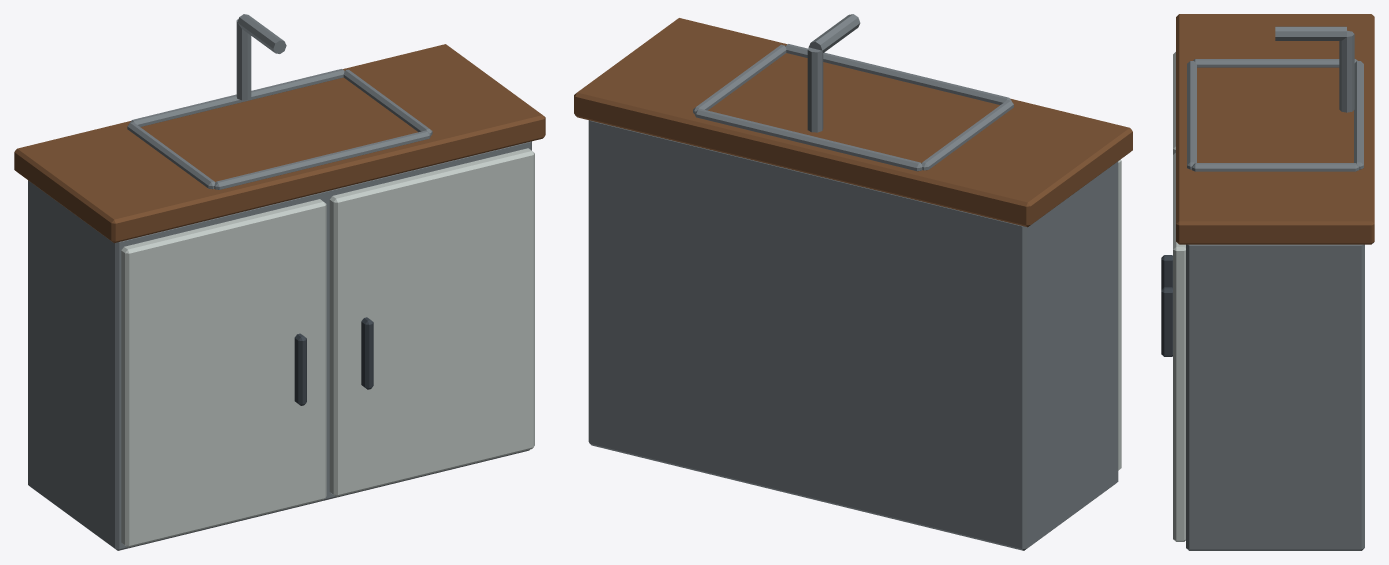
File: KitchenSinkCabinet.fbx
3 views of the same model, side by side, from view 1: azimuth 30°, elevation 25°; view 2: azimuth 150°, elevation 25°; view 3: azimuth 270°, elevation 25° (orthographic). The views are drawn at different scales.
Visible parts, largest first — view 1: KitchenSinkCabinet; view 2: KitchenSinkCabinet; view 3: KitchenSinkCabinet.
Boxes of the visible parts, x1,y1,x2,y2 form: KitchenSinkCabinet: [14, 14, 545, 550]; KitchenSinkCabinet: [574, 14, 1132, 550]; KitchenSinkCabinet: [1161, 14, 1374, 550].
Bounding box in the file's own units: 125 × 118 × 53.75.
1 material, 1 textured.
